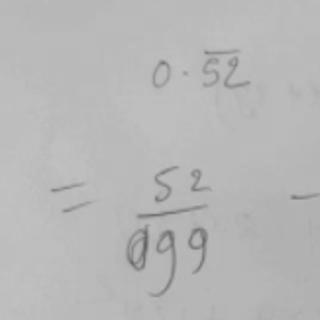.: (181, 65, 191, 78)
0: (130, 223, 147, 268), (152, 59, 172, 89)
2: (226, 56, 250, 92), (189, 167, 213, 192)
5: (151, 165, 179, 201), (204, 58, 222, 89)
9: (154, 227, 178, 293), (188, 227, 208, 276)
